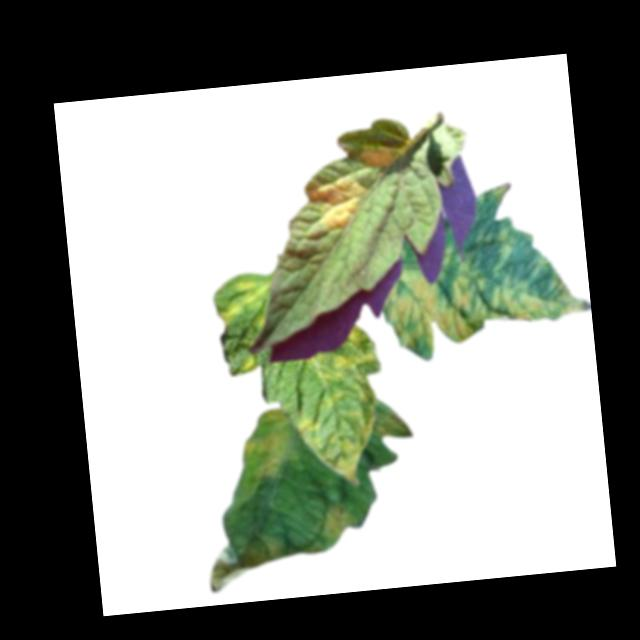Leaf_Mold: (383, 251, 594, 362), (292, 374, 384, 487), (204, 530, 285, 595), (304, 324, 383, 385), (236, 407, 299, 480), (306, 172, 370, 235), (214, 274, 275, 331), (318, 499, 359, 544), (372, 406, 412, 441), (355, 143, 394, 172), (236, 354, 259, 377)
